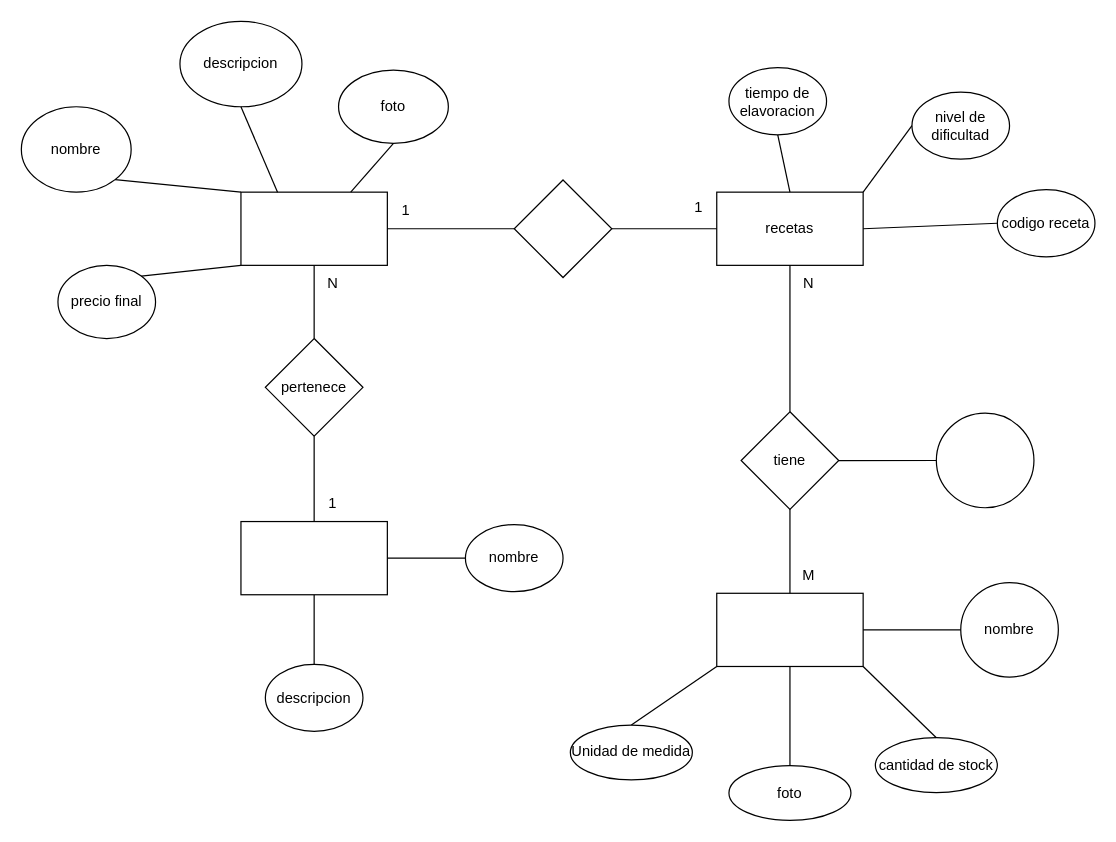
This 1116x842 diagram has some shape labels left out. The centre of each missing label's shape, as x and y in pixels:
"cantidad" belongs at (x=984, y=460).
"categoria" belongs at (x=313, y=557).
"ingredientes" belongs at (x=789, y=629).
"plato" belongs at (x=313, y=228).
"usa" belongs at (x=562, y=228).
